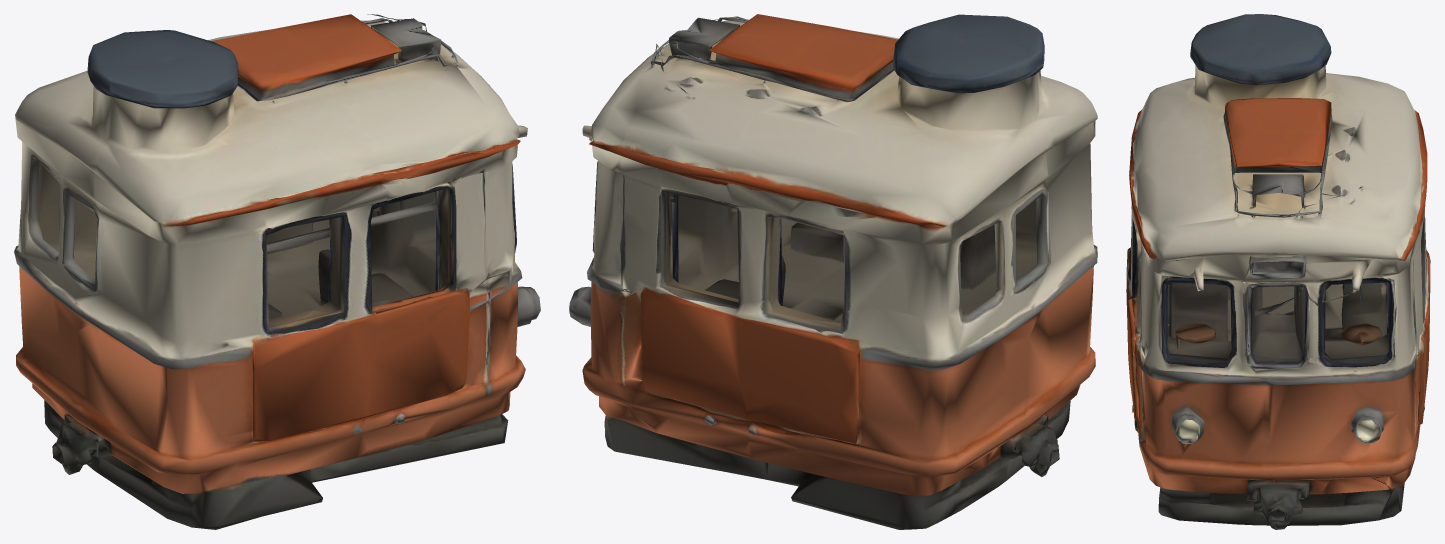
File: terracotta-commuter-car.glb
The picture shows the model from 3 angles, left to right: view 1: azimuth 30°, elevation 25°; view 2: azimuth 150°, elevation 25°; view 3: azimuth 270°, elevation 25°; orthographic projection. The views are drawn at different scales.
Parts seen in each view (by area): view 1: tripo_node_68f973c6-51ab-4a5a-a23d-91fd00427249; view 2: tripo_node_68f973c6-51ab-4a5a-a23d-91fd00427249; view 3: tripo_node_68f973c6-51ab-4a5a-a23d-91fd00427249.
Boxes of the visible parts, left/top/right/bottom form: tripo_node_68f973c6-51ab-4a5a-a23d-91fd00427249: left=14, top=14, right=540, bottom=529; tripo_node_68f973c6-51ab-4a5a-a23d-91fd00427249: left=569, top=14, right=1097, bottom=529; tripo_node_68f973c6-51ab-4a5a-a23d-91fd00427249: left=1126, top=14, right=1430, bottom=529.
Bounding box in the file's own units: 3.89 × 3.49 × 2.68.
1 material, 1 textured.
